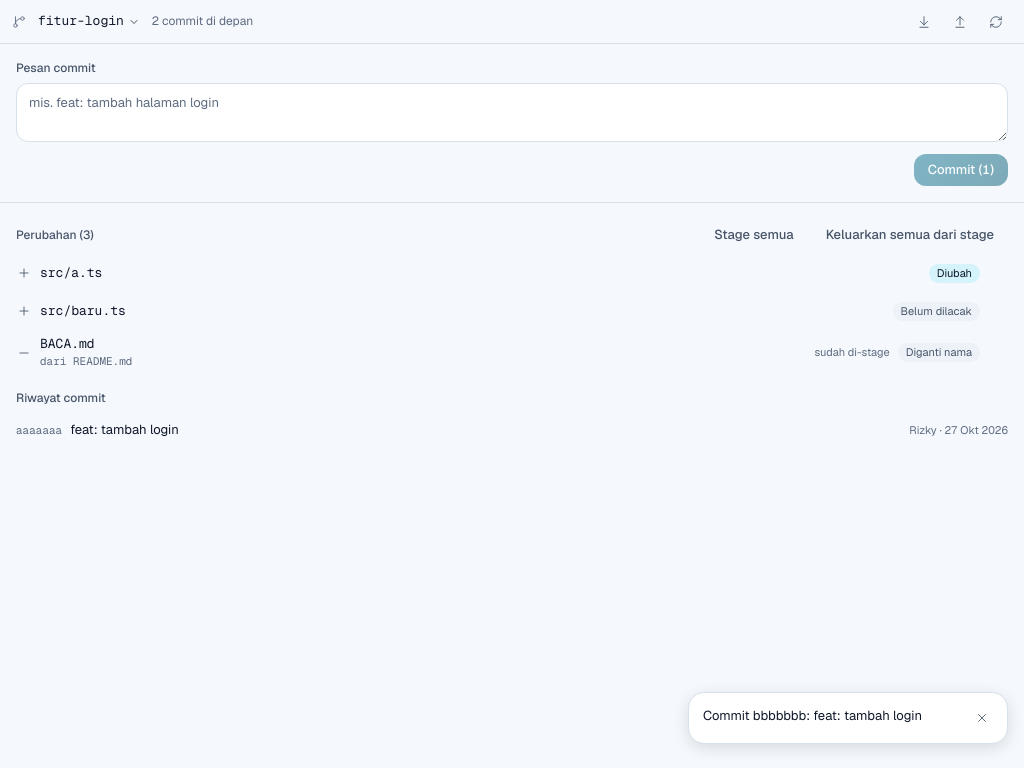
Test: GitPanel: aksi › galat git (mis. hook menolak) tampil sebagai pesan git, pesan commit tetap ada
Step 1. Type "feat: ditolak" into the text box labelled "Pesan commit" → [512, 113], box left=16, top=83, right=1008, bottom=142
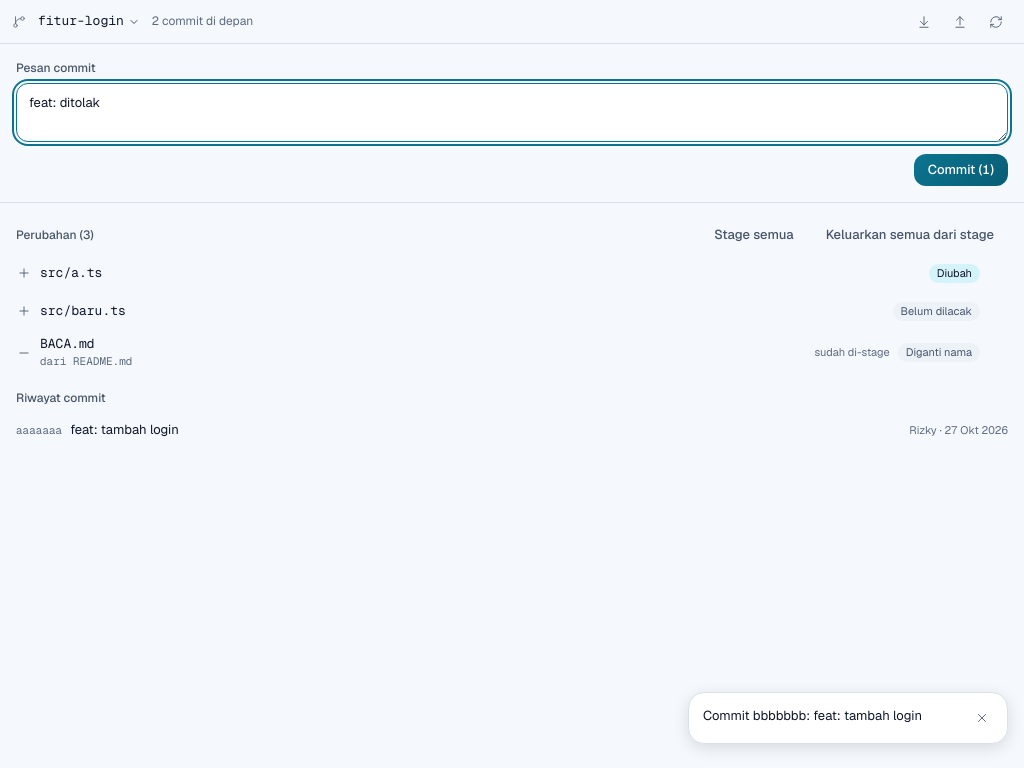
Step 2. Click the button "Commit (1)" → [961, 170], box left=914, top=154, right=1008, bottom=186
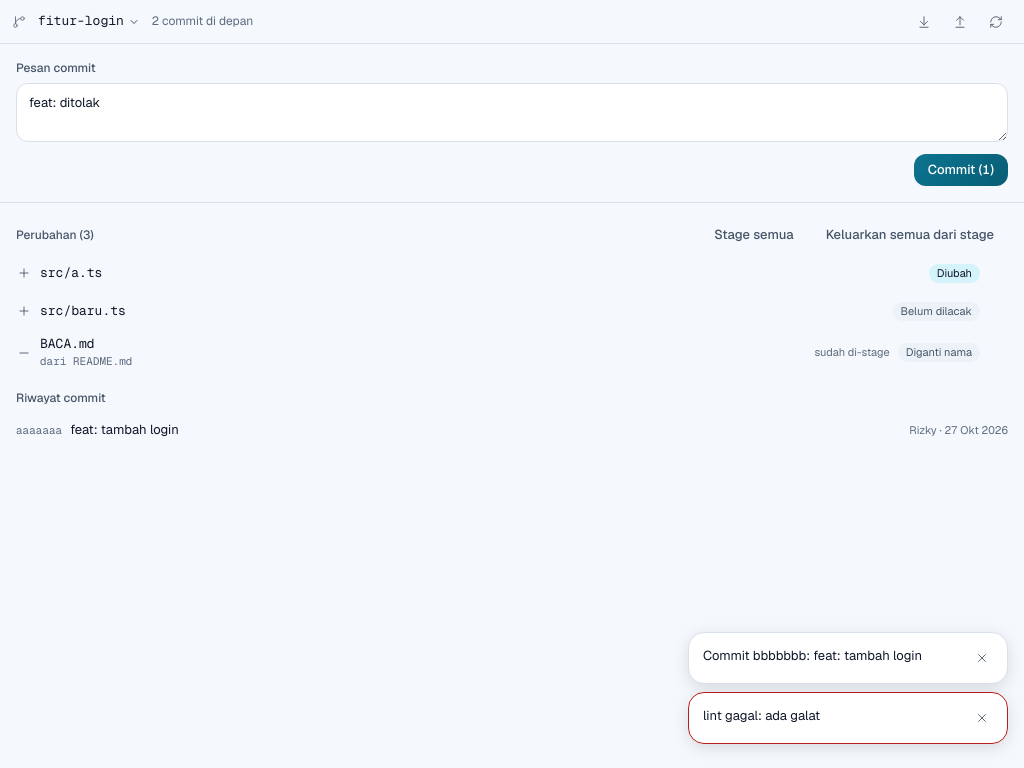
Expected: the text "lint gagal: ada galat" is shown, left=703, top=707, right=820, bottom=724
